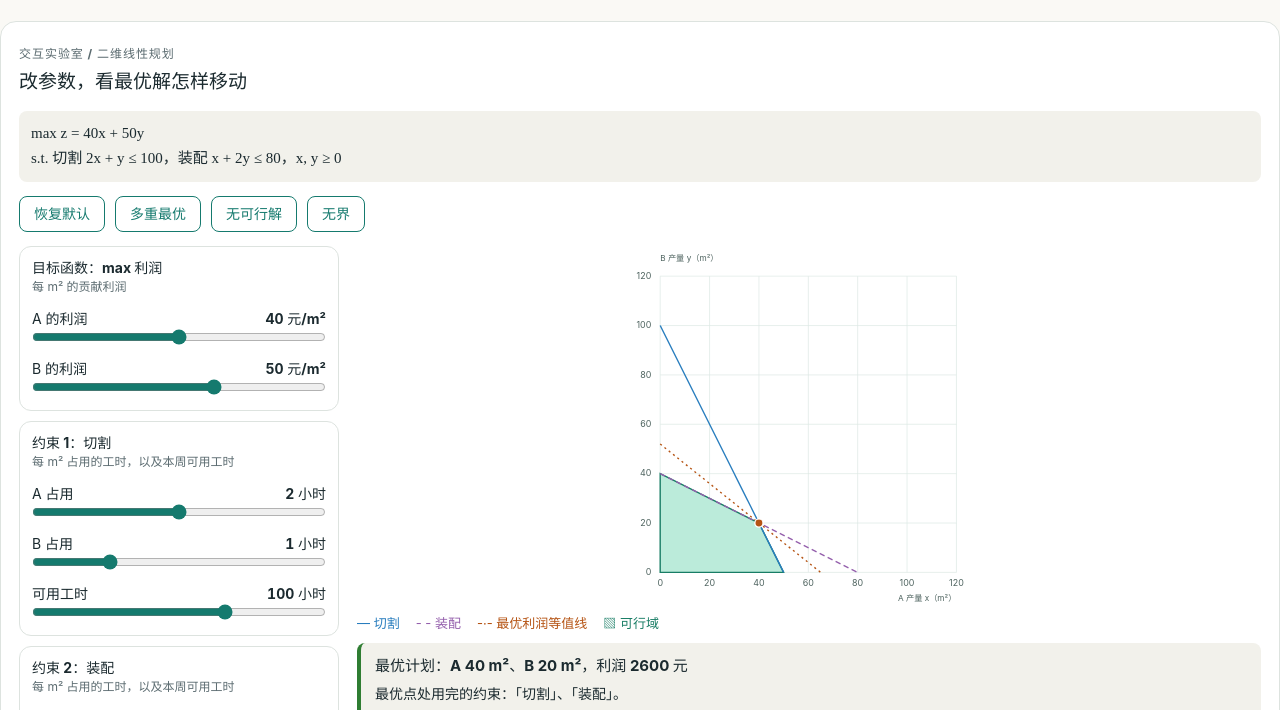
Test: 线性规划交互实验室 › presets show the three special situations honestly, and 恢复默认 brings the textbook back
Click the button "多重最优" at (158, 214), box [115,196,201,232]
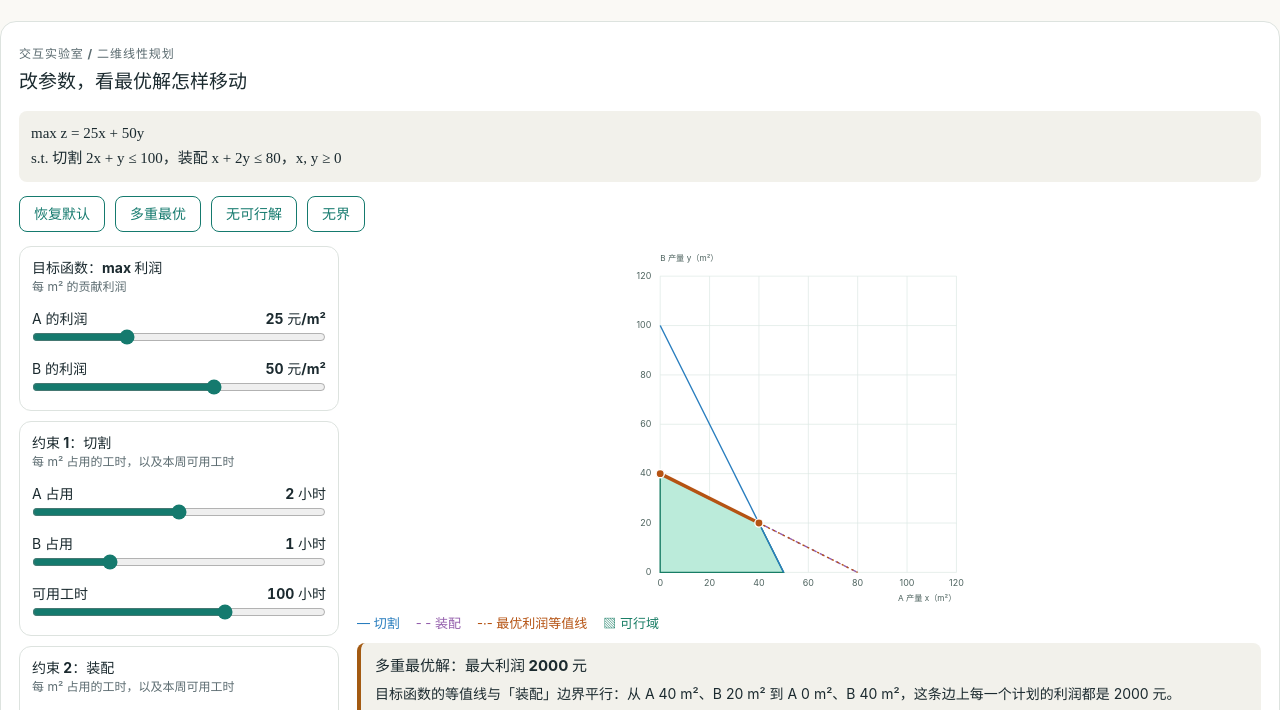
Now the element that starts with "多重最优解：最大利润 2000 元" is shown, box [375,656,587,675]
Click the button "无可行解" at (254, 214), box [211,196,297,232]
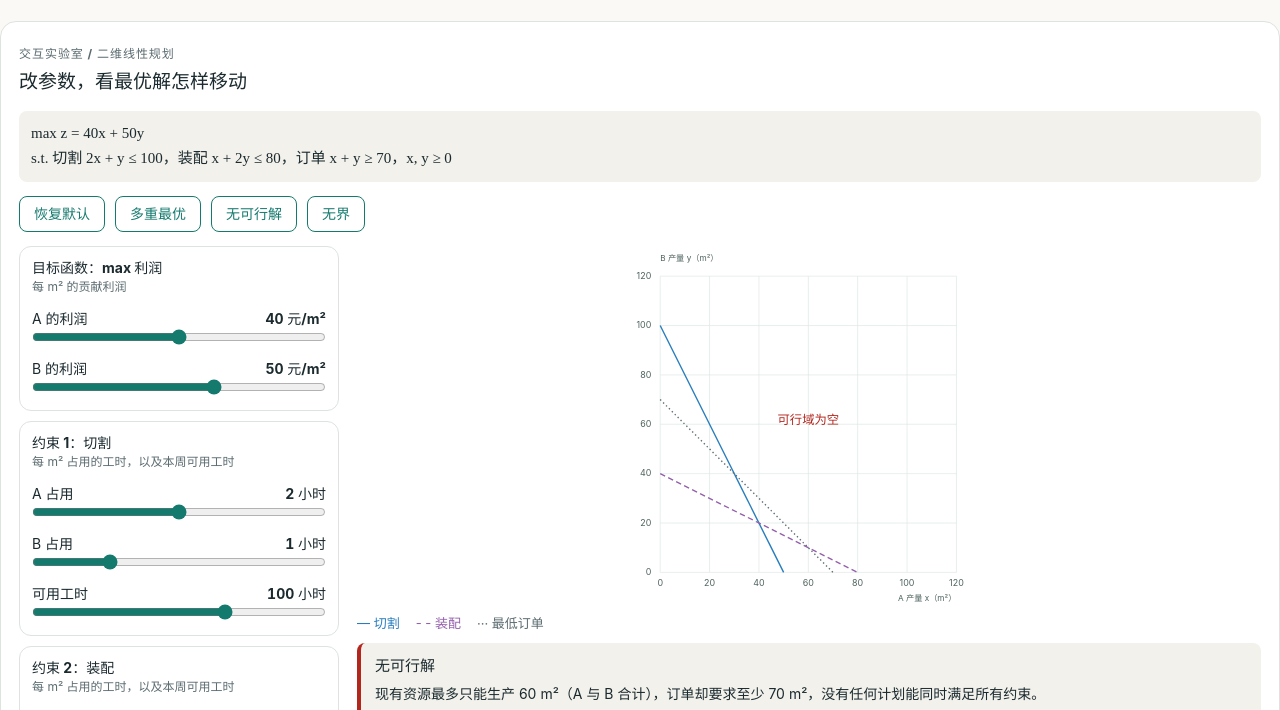
Expected: the text "可行域为空" is shown, [778,412,839,427]
Now the element that starts with "无可行解" is shown, box [375,656,435,675]
Now the element that starts with "无可行解" shows "最多只能生产 60 m²", box [375,684,1045,702]
Click the button "无界" at (336, 214), box [307,196,365,232]
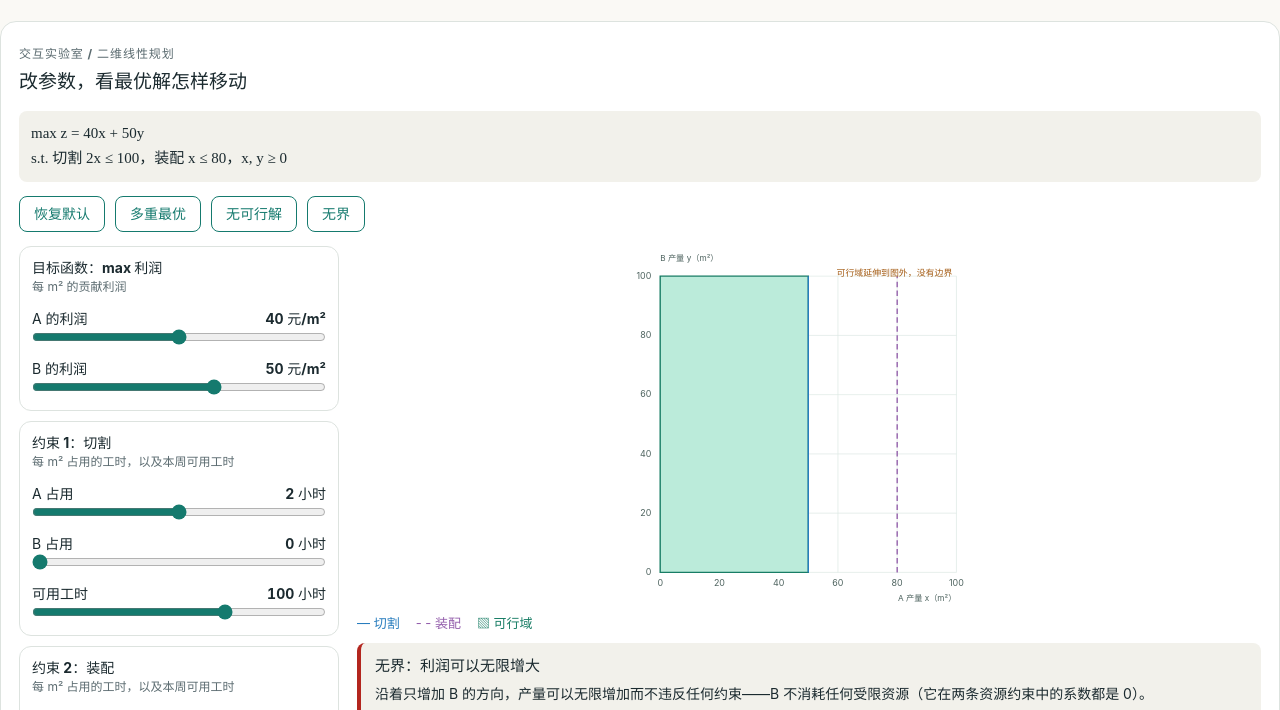
Expected: the text "可行域延伸到图外，没有边界" is shown, [836,267,952,278]
Now the element that starts with "无界：利润可以无限增大" is shown, box [375,656,540,675]
Click the button "恢复默认" at (62, 214), box [19,196,105,232]
(page scrolled)
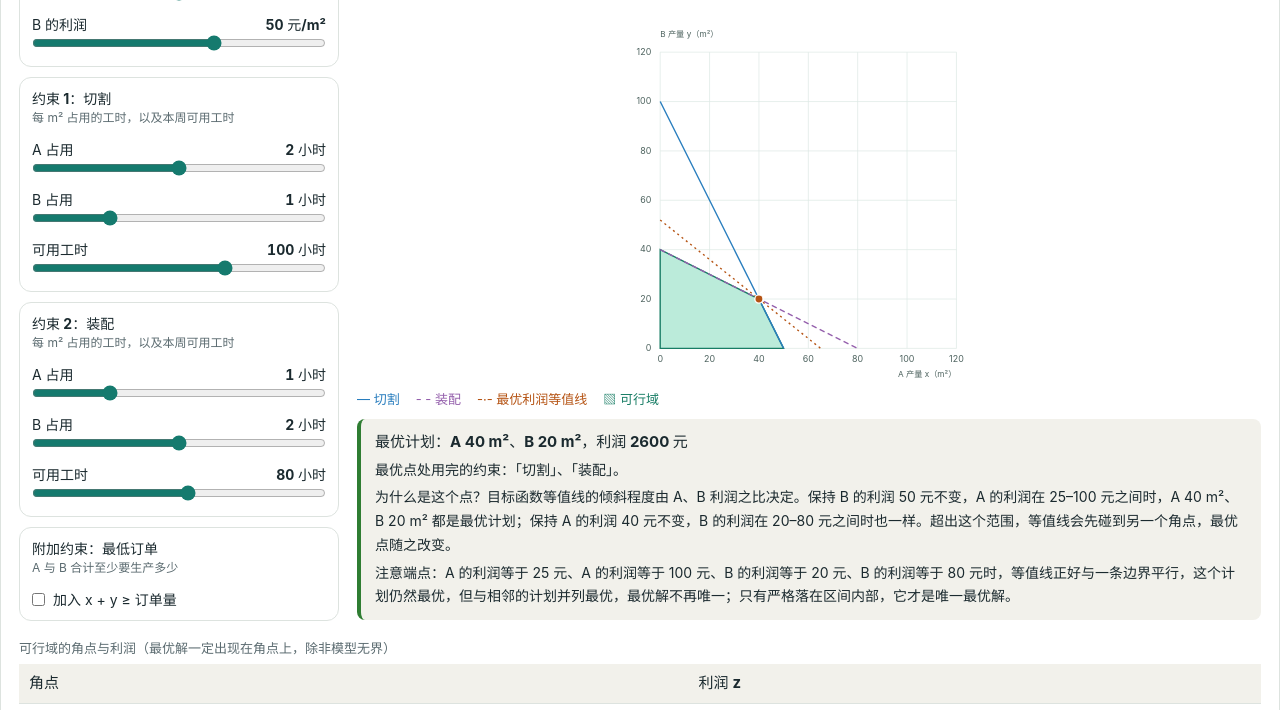
Now the element that starts with "最优计划：A 40 m²、B 20 m²，利润 2600 元" is shown, box [375,432,688,451]
